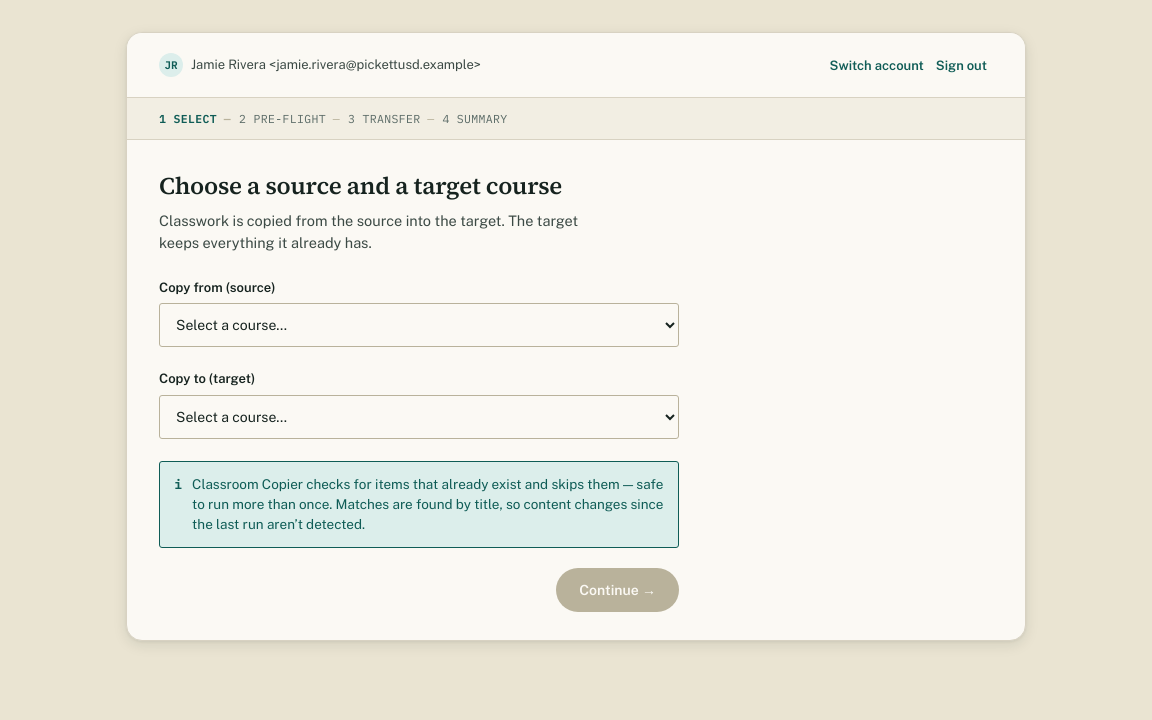
Test: the linear wizard › shows a notice rather than silently proceeding when Sign out fails
This screenshot has width=1152, height=720.
Check: the dropdown labelled "Copy from (source)" is shown, box [159,303,679,347]
Click the button "Sign out": (961, 65) [930,43,993,87]
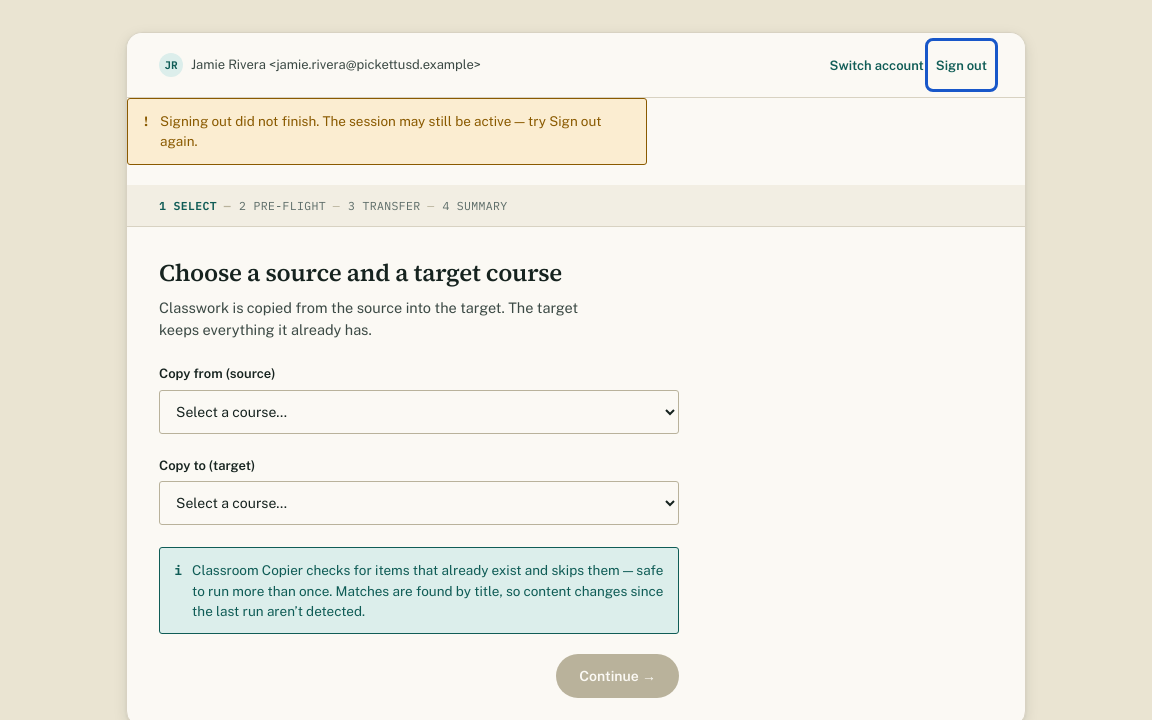
Check: the element with test id "account-header" is shown, box [127,33,1025,98]
Check: the text "session may still be active" is shown, box [160,113,602,149]
